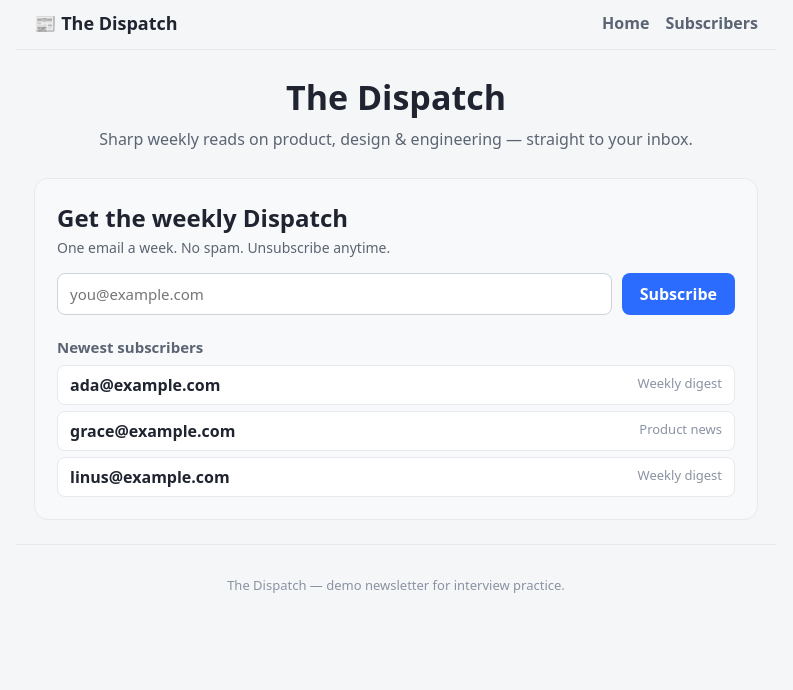
it: m08 · NewsletterSignup — form submit (preventDefault) › subscribing shows a success message and adds the email
Step 1. Type "adder@example.com" into the field with test id "email-input" → x=334, y=294, box [57,273,612,315]
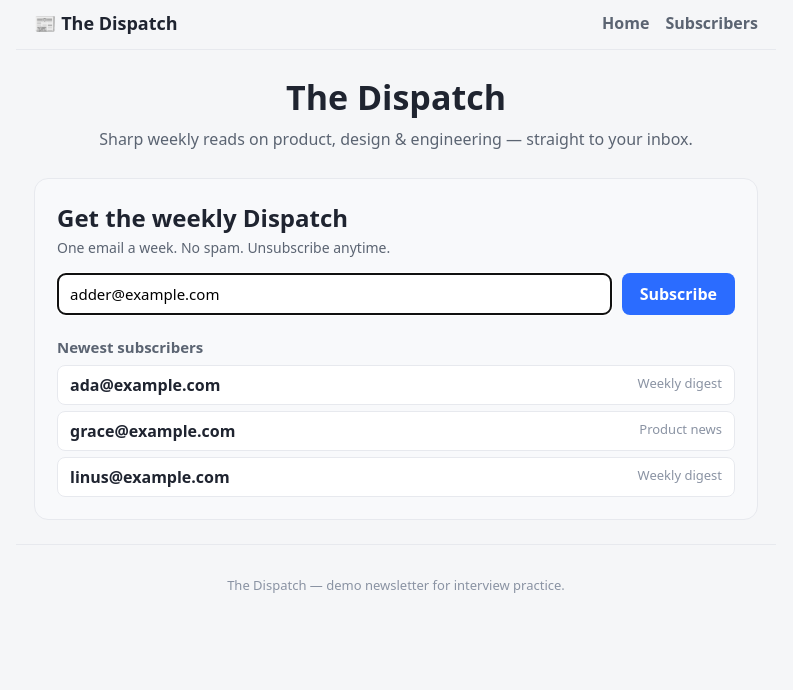
Step 2. Click the button with test id "subscribe-btn" → x=678, y=294, box [622,273,735,315]
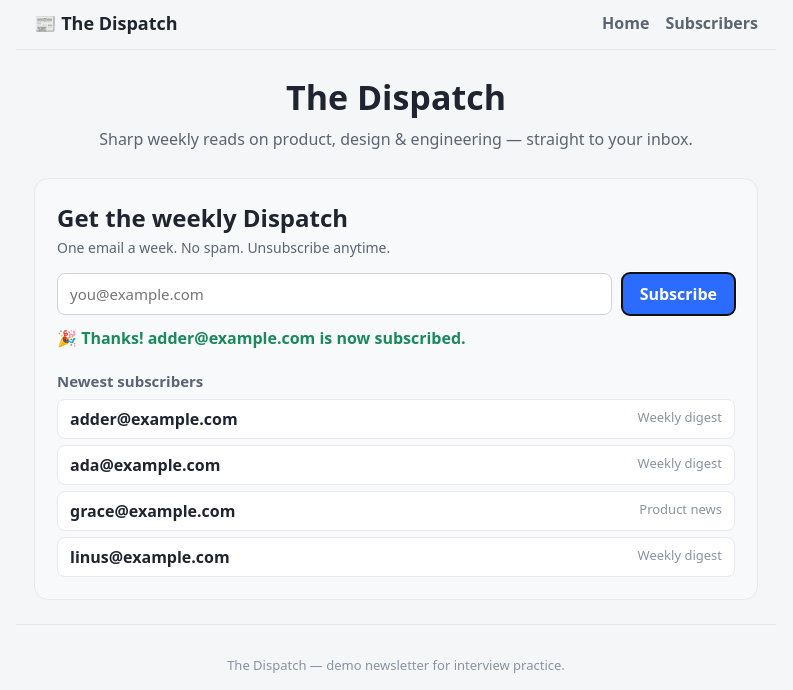
Result: the text with test id "success-msg" shows "adder@example.com" at [148,327,315,349]
Result: the number of list items with test id "subscriber-email" is 4 at [57,399,735,439]; [57,445,735,485]; [57,491,735,531]; [57,537,735,577]
Result: the text "adder@example.com" is shown at [70,408,238,430]
